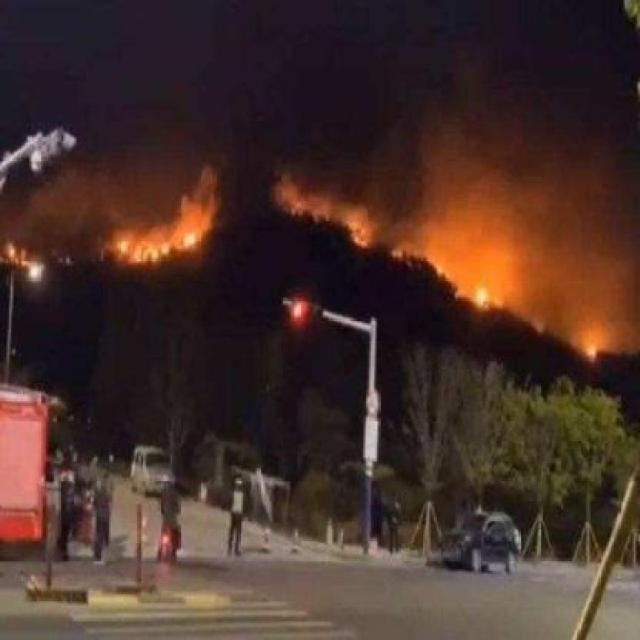Fire: (0, 103, 640, 392)
